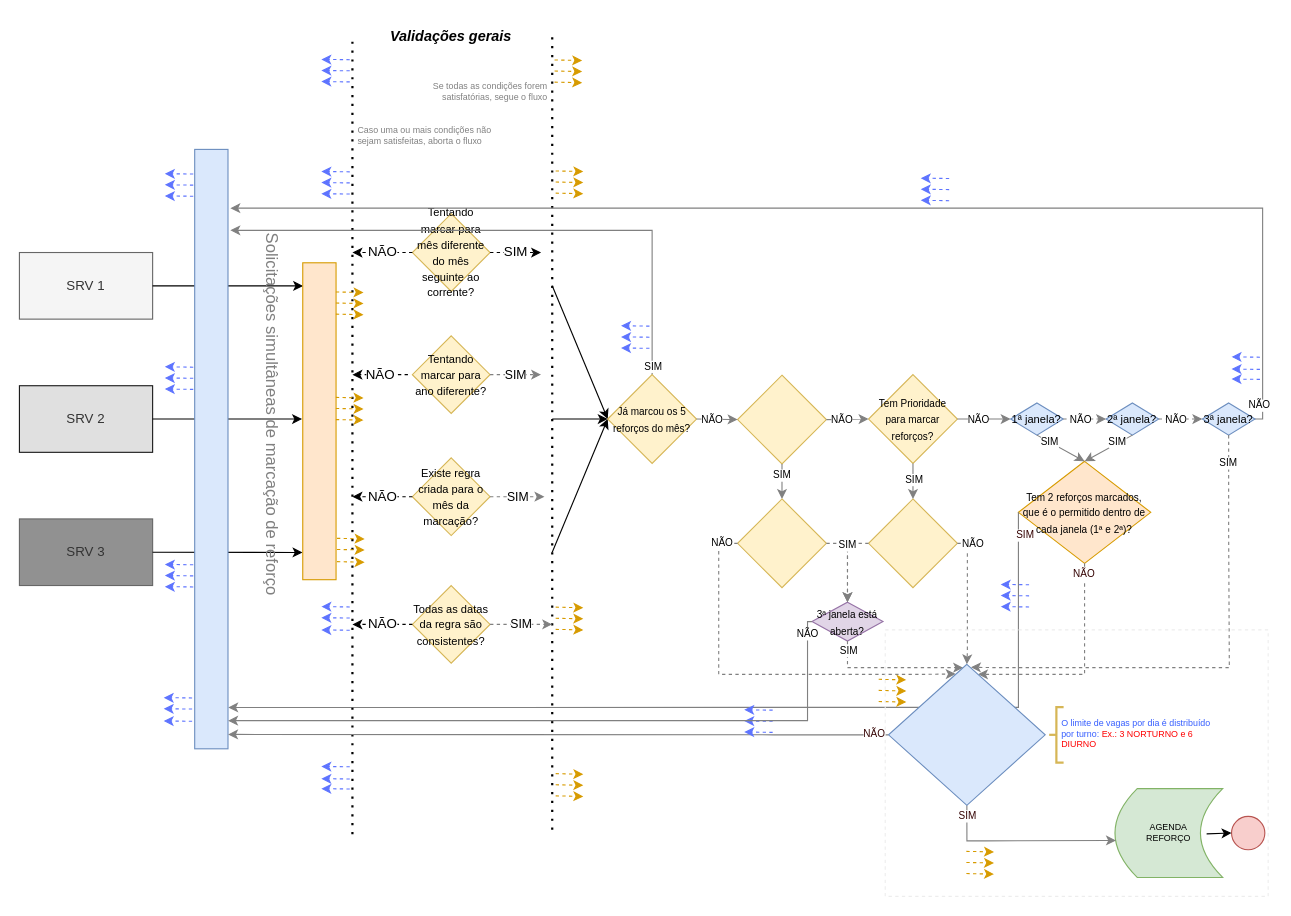
Image size: 1291x916. Some labels were removed from this diagram. The shapes that lost their labels are listed below. From the top down, each one's centre as x and y in pixels, then its label:
At point 319,421: "Fluxo de ida".
At point 781,419: "Servidor estará de licença prêmio ou férias no mês da marcação do reforço?".
At point 211,448: "Fluxo de retorno".
At point 781,543: "Já marcou os 4 reforços para o mês permitidos para esta condição?".
At point 912,543: "Já marcou os 3 reforços para o mês permitidos para esta condição?".
At point 966,734: "Data possui vaga para marcação?".
At point 1247,832: "FIM".
